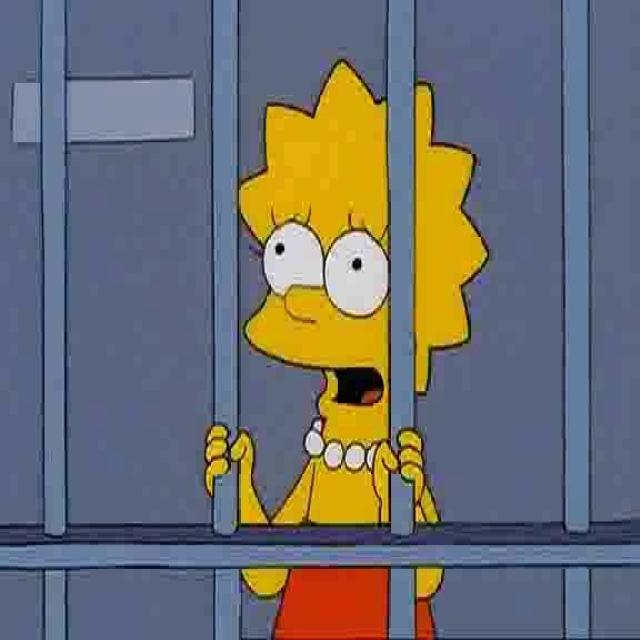Lisa Simpson: (233, 58, 489, 478)
